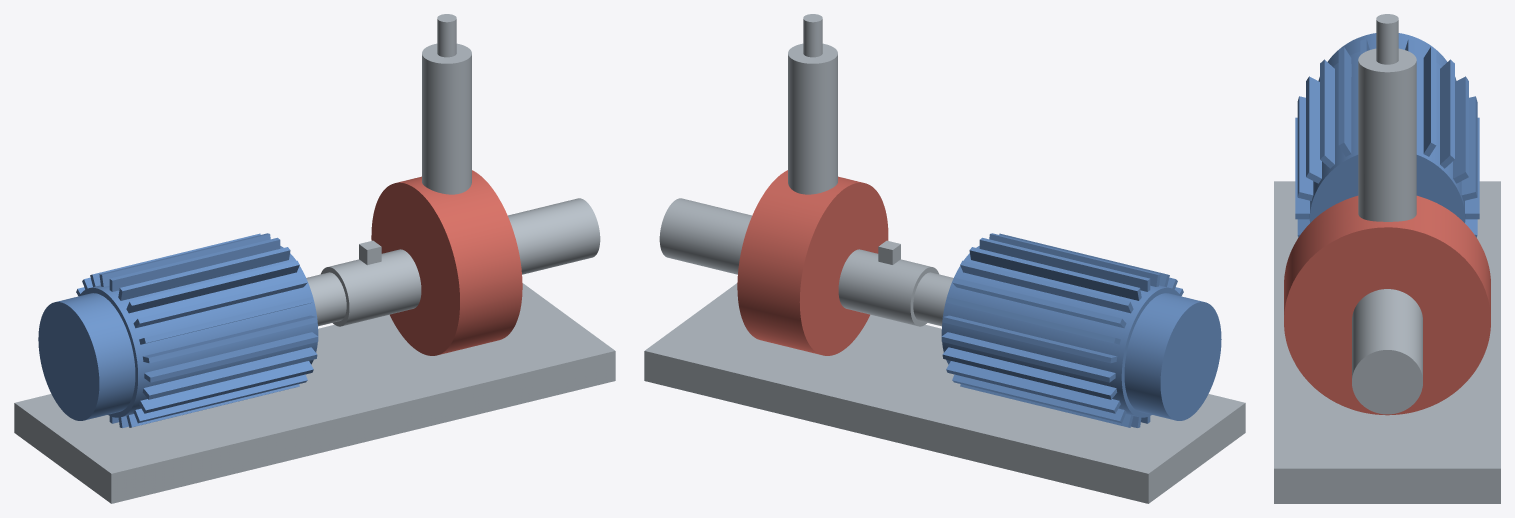
File: pump-unit-s.glb
3 views of the same model, side by side, from view 1: azimuth 30°, elevation 25°; view 2: azimuth 150°, elevation 25°; view 3: azimuth 270°, elevation 25° (orthographic). The views are drawn at different scales.
Visible parts, largest first — view 1: frame, motor, pump, fan, outlet, inlet, bearing, coupling, sensor-p; view 2: frame, motor, pump, fan, outlet, inlet, bearing, coupling, sensor-p; view 3: frame, pump, motor, outlet, inlet, sensor-p, fan.
Boxes of the visible parts, x1,y1,x2,y2 form: frame: (14, 283, 615, 503); motor: (76, 233, 318, 427); pump: (371, 170, 522, 355); fan: (38, 293, 135, 420); outlet: (422, 43, 471, 194); inlet: (508, 198, 600, 274); bearing: (321, 249, 421, 326); coupling: (306, 272, 346, 326); sensor-p: (437, 14, 456, 57); frame: (644, 283, 1245, 503); motor: (941, 233, 1183, 427); pump: (737, 170, 888, 355); fan: (1124, 293, 1221, 420); outlet: (788, 43, 837, 194); inlet: (659, 198, 751, 274); bearing: (838, 249, 938, 326); coupling: (913, 272, 953, 326); sensor-p: (803, 14, 822, 57); frame: (1274, 181, 1500, 503); pump: (1284, 195, 1490, 415); motor: (1295, 39, 1479, 237); outlet: (1358, 48, 1416, 221); inlet: (1352, 289, 1422, 414); sensor-p: (1376, 14, 1398, 64); fan: (1318, 33, 1456, 81).
Bounding box in the file's own units: 2.17 × 1.42 × 0.7.
